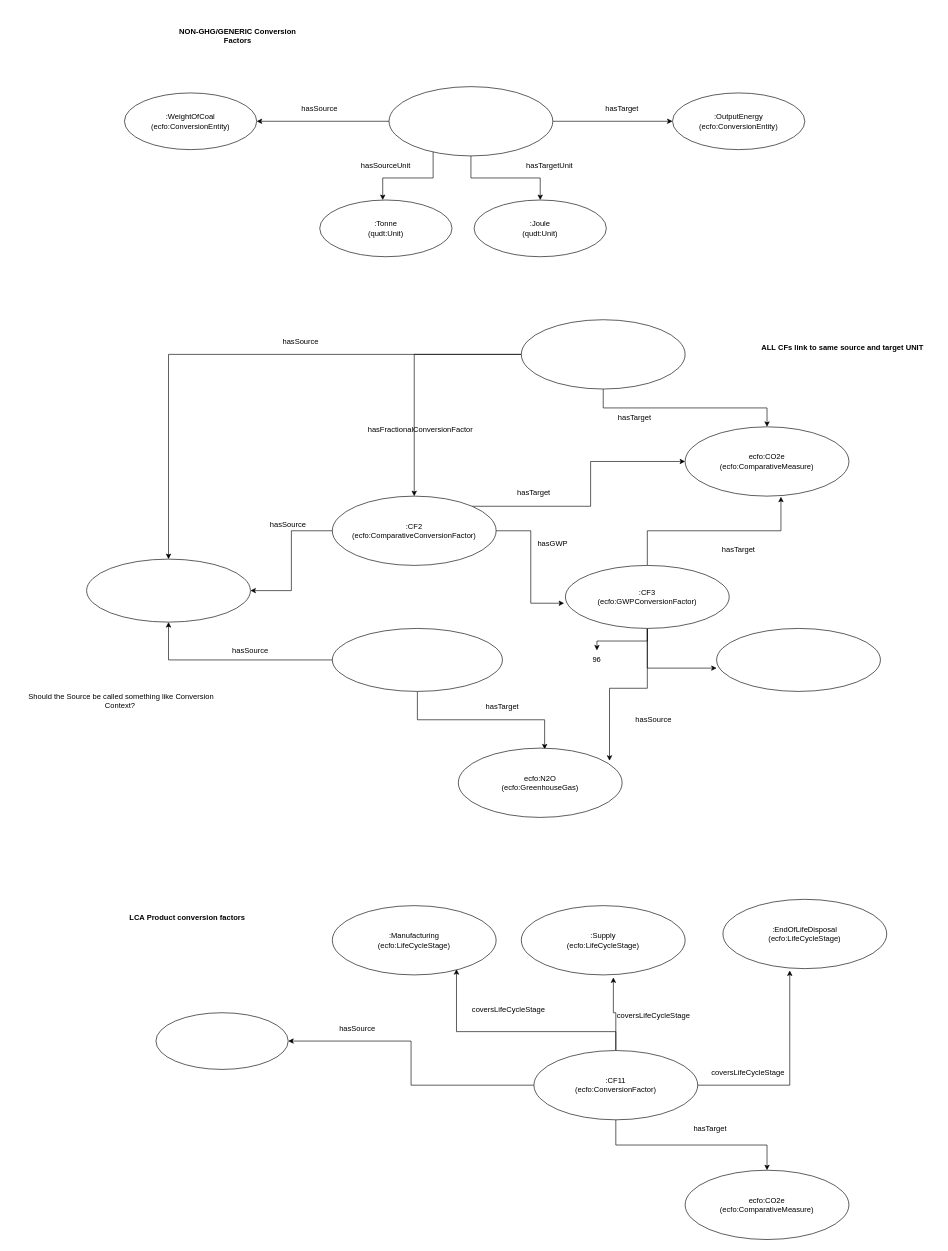
Image size: 948x1251. Some labels were removed from this diagram. Each missing label, with the centre of its shape:
:Bicycle (ecfo:ConversionEntity): the point at 221,1040
:CF1 (ecfo:GHGEmissionConversionFactor: the point at 417,659
:CF10 (ecfo:ConversionFactor): the point at 470,121
:CF4 (ecfo:ComparativeConversionFactor): the point at 603,354
:SomeActivityType -e.g. Propane Gas Burning (ecfo:ActivityData): the point at 168,590
ecfo:GWP100 (ecfo:GWPTimeHorizon): the point at 798,659
